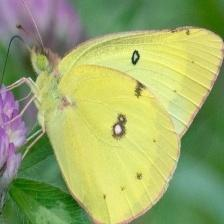butterfly: (28, 25, 224, 222)
